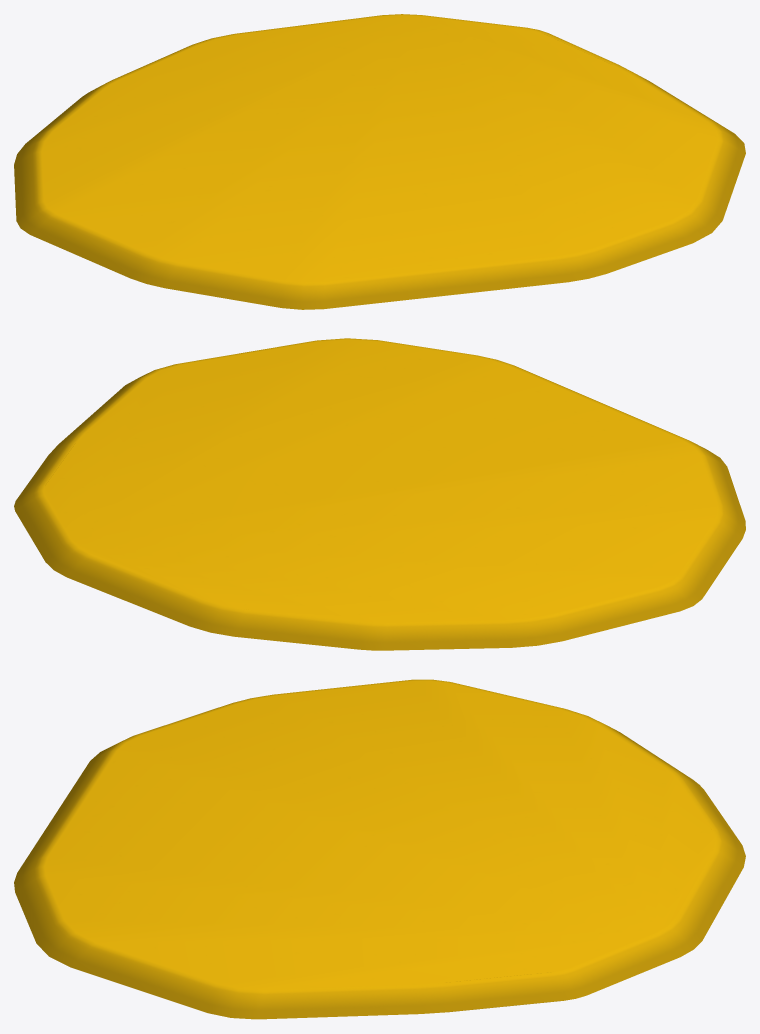
Rendered from Island.fbx.
3 renders of one model, top to bottom at view 1: azimuth 30°, elevation 25°; view 2: azimuth 150°, elevation 25°; view 3: azimuth 270°, elevation 25°, orthographic. The views are drawn at different scales.
Parts seen in each view (by area): view 1: Island; view 2: Island; view 3: Island.
Part boxes in pixels (x1,y1,x2,y2): Island: (14,14,745,309); Island: (14,338,745,650); Island: (14,679,745,1019).
Size of the model in its own units: 234 by 5.46 by 216.
1 material, 1 textured.
